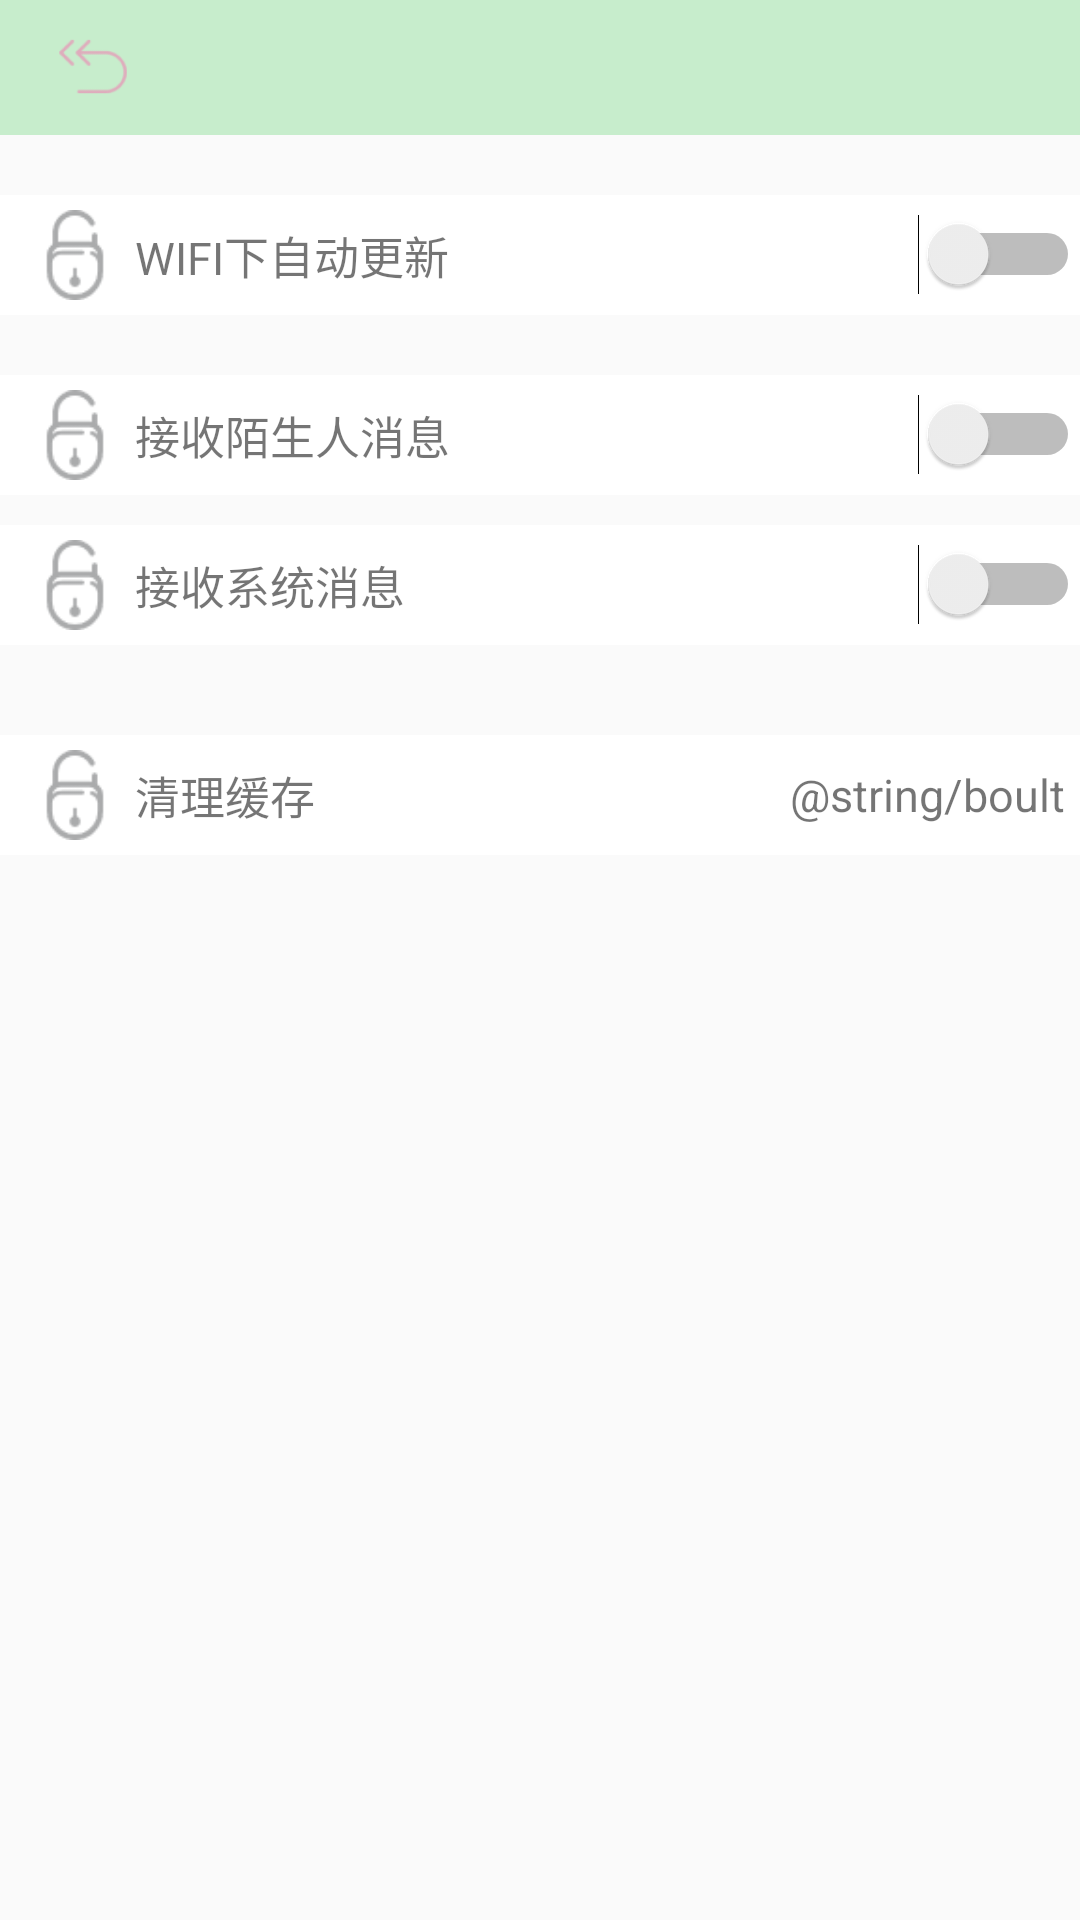

Where to tap for icons on this 1080w x 1920h app screen, as (x=x, y=y):
callback: (x=93, y=66)
